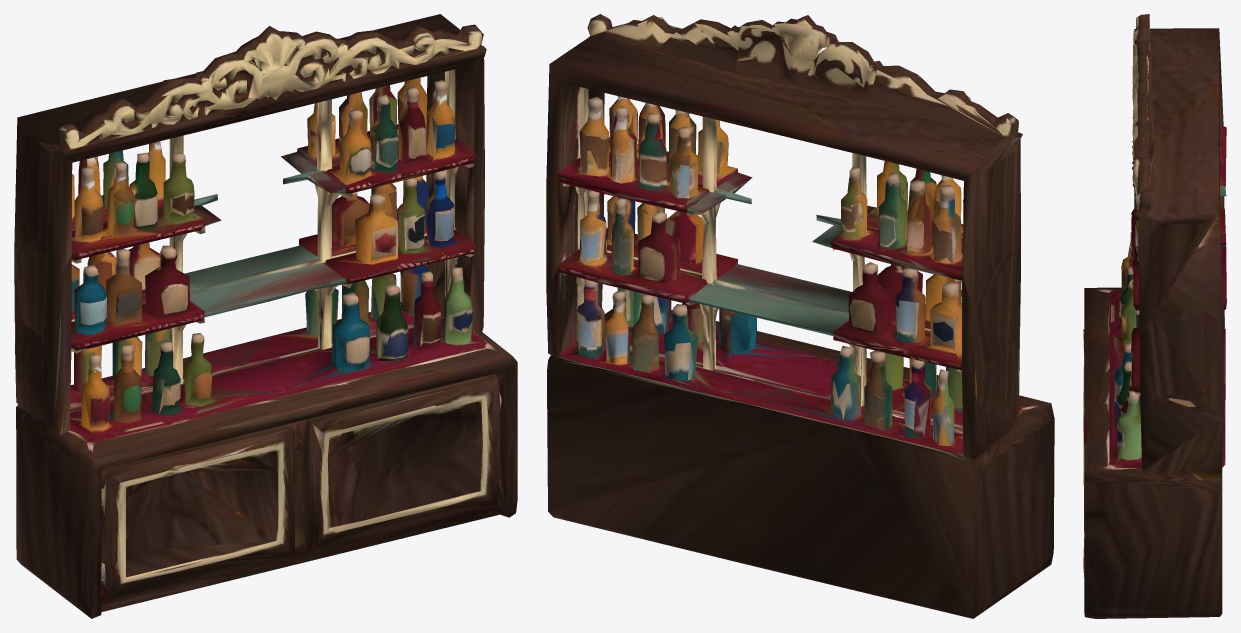
The model's file is backBar.glb.
The picture shows the model from 3 angles, left to right: view 1: azimuth 30°, elevation 25°; view 2: azimuth 150°, elevation 25°; view 3: azimuth 270°, elevation 25°; orthographic projection. The views are drawn at different scales.
Visible parts, largest first — view 1: Mesh_0; view 2: Mesh_0; view 3: Mesh_0.
Part boxes in pixels (left/top/right/bottom): Mesh_0: left=14, top=14, right=517, bottom=618; Mesh_0: left=546, top=14, right=1054, bottom=618; Mesh_0: left=1083, top=14, right=1226, bottom=618.
Bounding box in the file's own units: 2.26 × 2.6 × 0.7249.
1 material, 1 textured.
